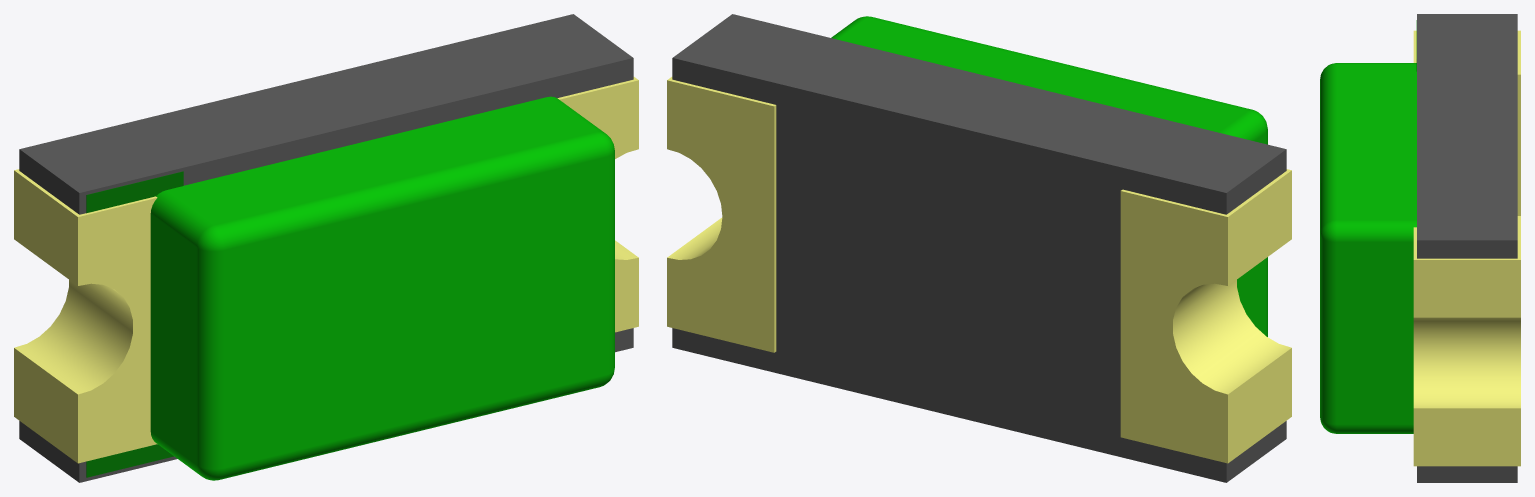
Rendered from LED_0603_G-a4247ae7ee8c.glb.
3 renders of one model, left to right at view 1: azimuth 30°, elevation 25°; view 2: azimuth 150°, elevation 25°; view 3: azimuth 270°, elevation 25°, orthographic. The views are drawn at different scales.
Parts seen in each view (by area): view 1: material2, material1, material0, material3; view 2: material1, material0, material2; view 3: material2, material1, material0.
Part boxes in pixels (bbox=[...]): material2: bbox=[150, 96, 614, 480]; material1: bbox=[19, 14, 633, 482]; material0: bbox=[14, 77, 638, 463]; material3: bbox=[86, 171, 183, 477]; material1: bbox=[672, 14, 1286, 482]; material0: bbox=[667, 77, 1291, 463]; material2: bbox=[831, 16, 1267, 336]; material2: bbox=[1320, 63, 1416, 433]; material1: bbox=[1417, 14, 1517, 482]; material0: bbox=[1413, 30, 1520, 466].
Size of the model in its own units: 1.62 by 0.8 by 0.6.
